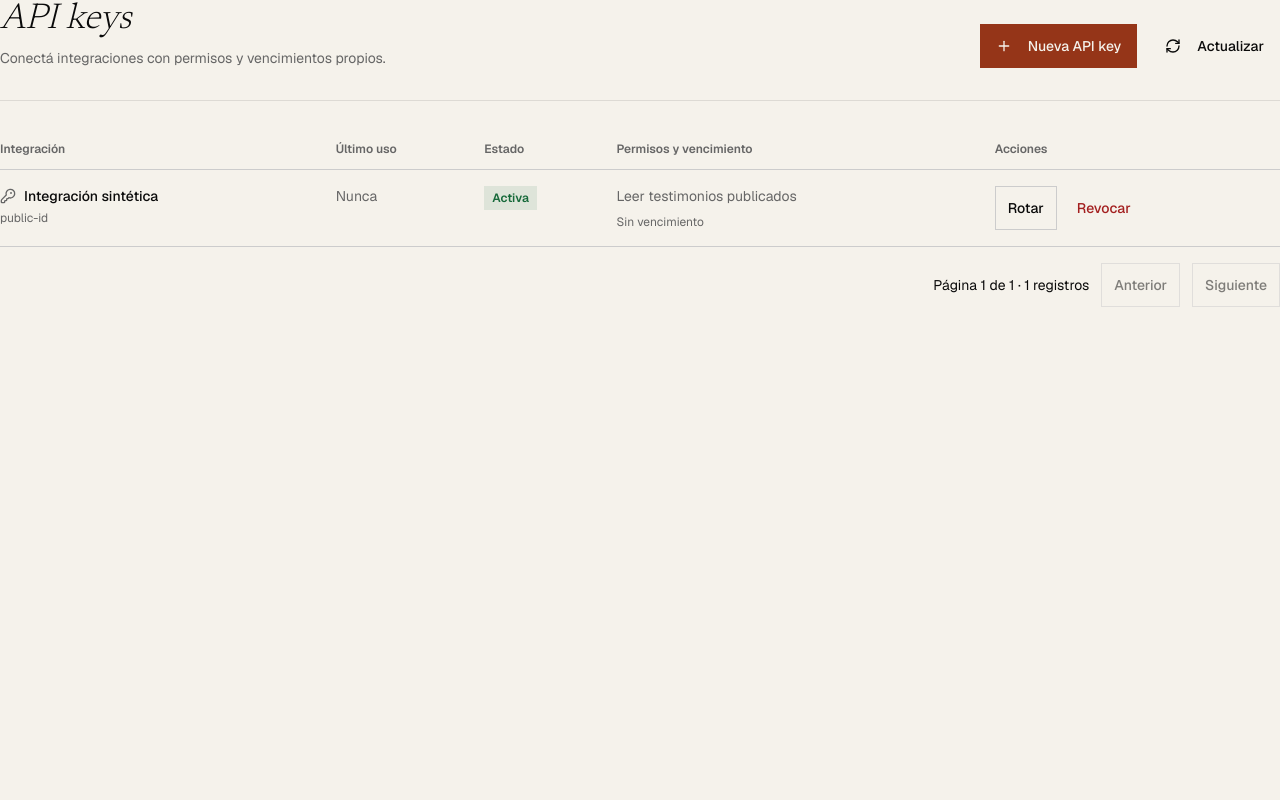
api-keys usa la confirmación activa y sólo muta después de confirmar
Click the button "Revocar": (1104, 208) [1065,186,1143,230]
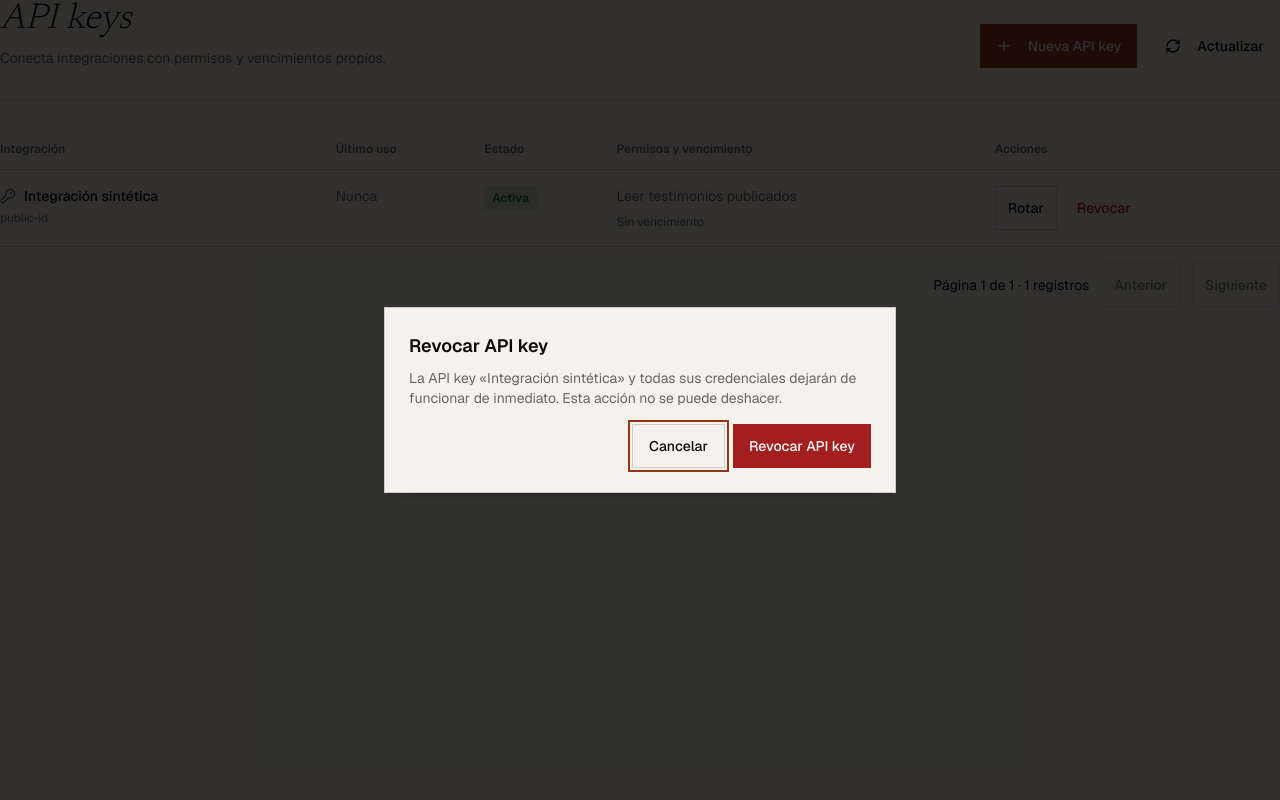
Check: the dialog shows "Integración sintética", box [409,369,856,407]
Click the button "Cancelar": (678, 446) [632,424,725,468]
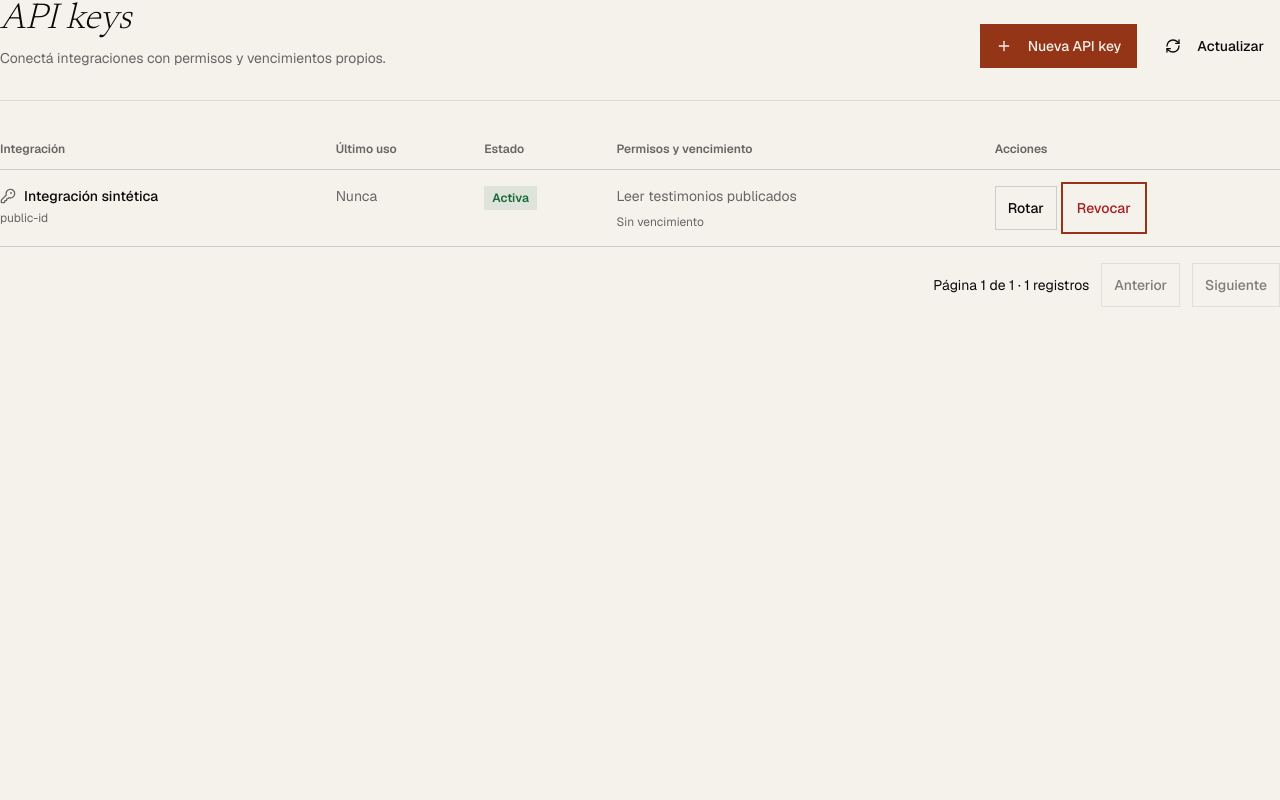
Click the button "Revocar": (1104, 208) [1065,186,1143,230]
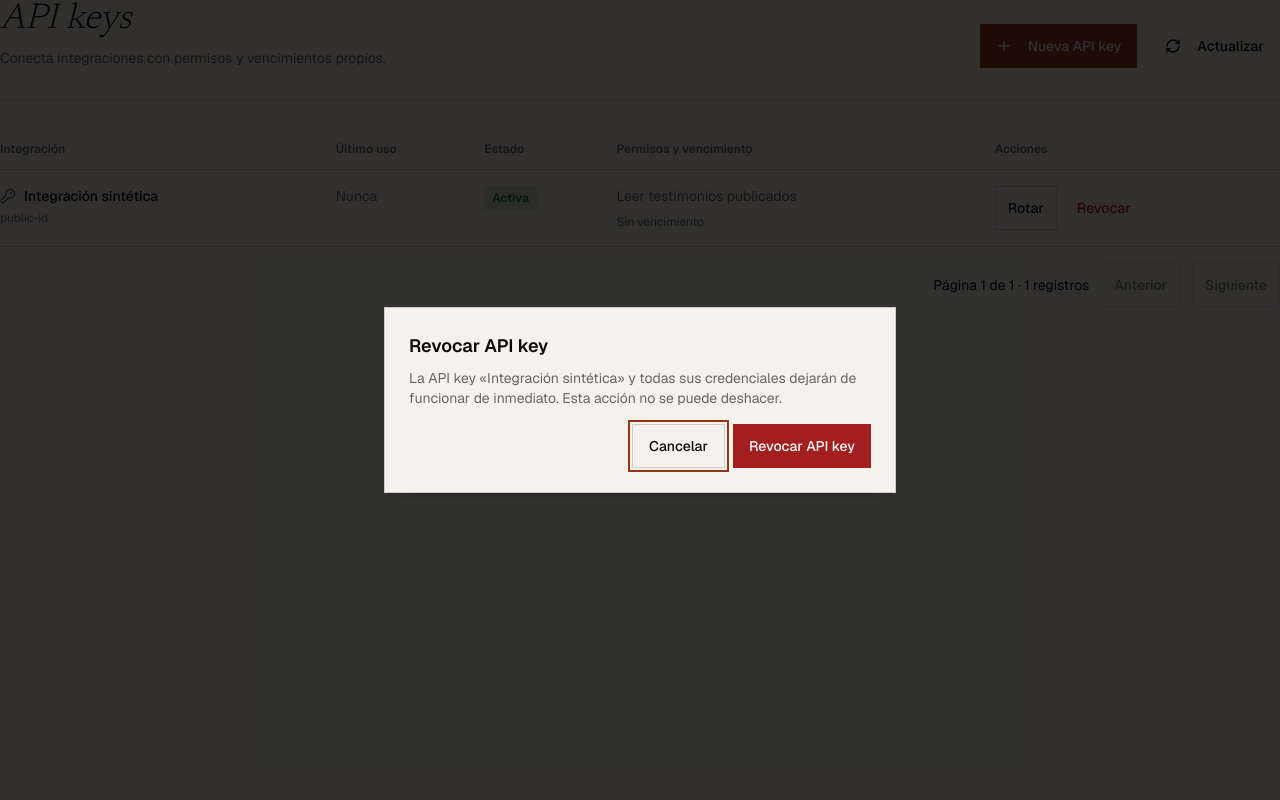
Click the button "Revocar API key": (802, 446) [733,424,871,468]
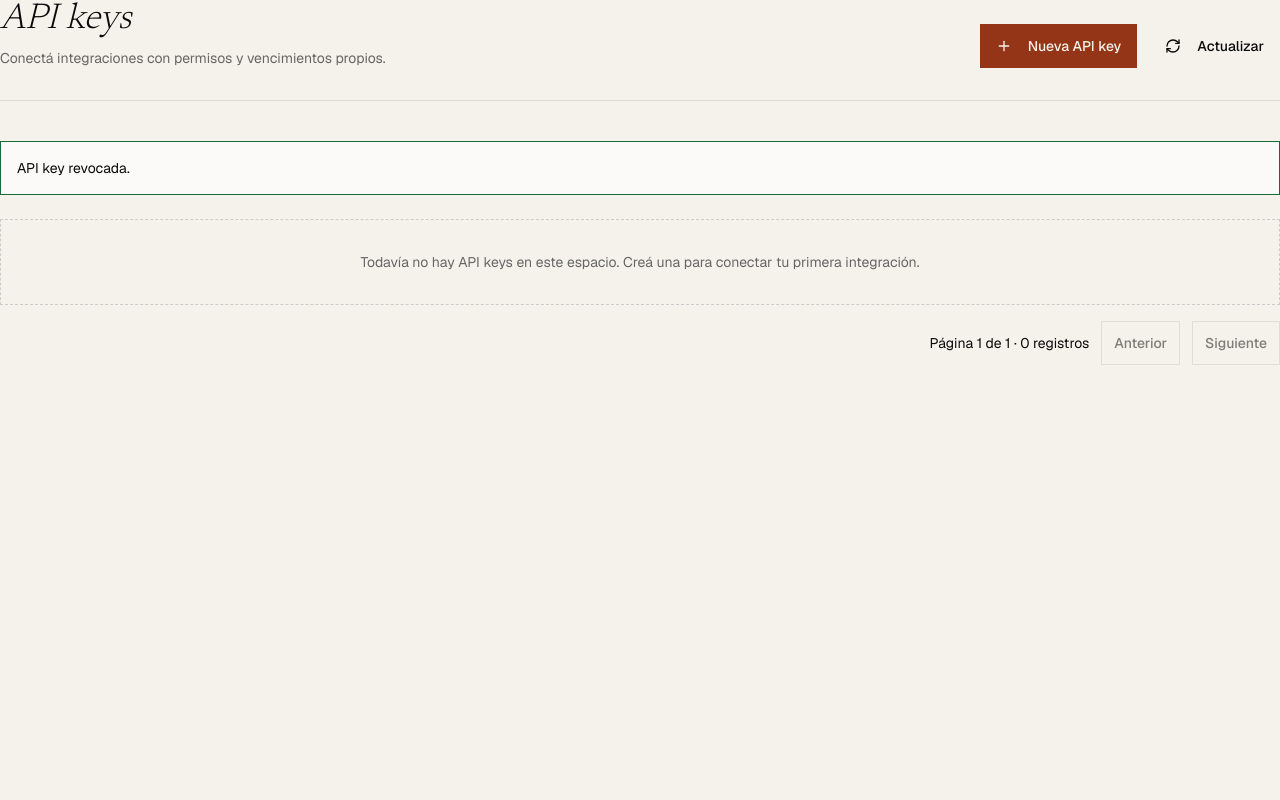
Check: the text "API key revocada." is shown, box [0,141,1279,195]
